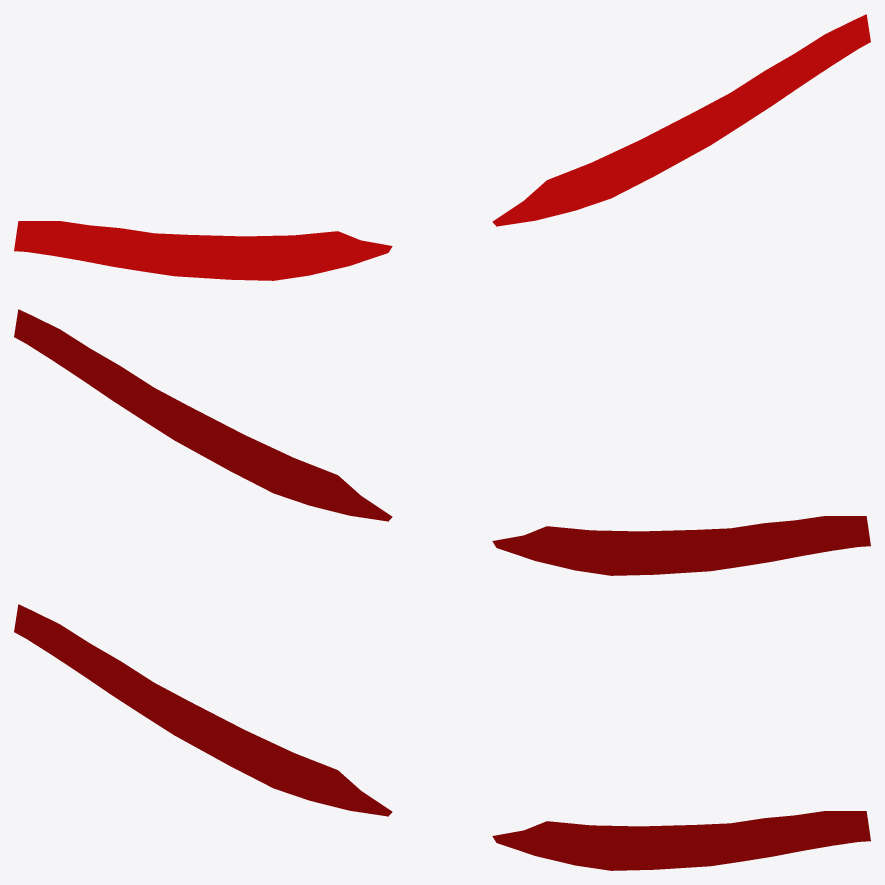
File: frame83.fbx
3 views of the same model, one above another, from view 1: azimuth 30°, elevation 25°; view 2: azimuth 150°, elevation 25°; view 3: azimuth 330°, elevation 25° (orthographic).
Visible parts, largest first — view 1: MaterialLayer; view 2: MaterialLayer; view 3: MaterialLayer.
Part boxes in pixels (<box>): MaterialLayer: <box>14,14,870,280</box>; MaterialLayer: <box>14,309,870,575</box>; MaterialLayer: <box>14,604,870,870</box>.
Bounding box in the file's own units: 1315 × 184 × 0.000191.
